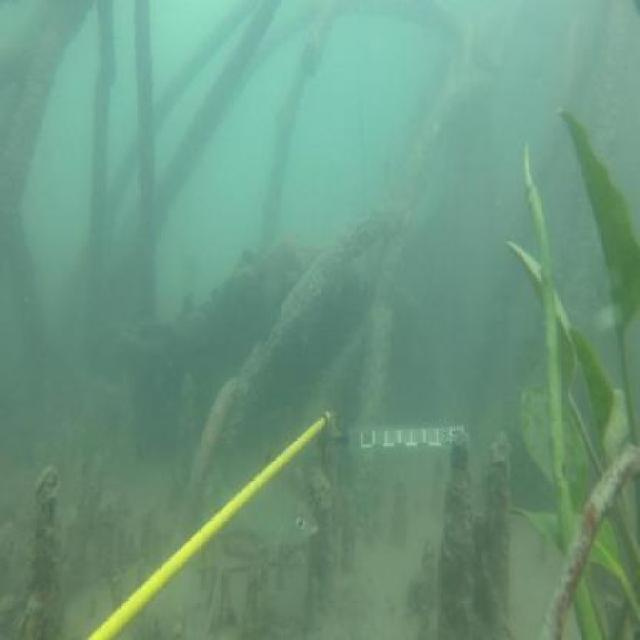gerres: (213, 458, 324, 552)
